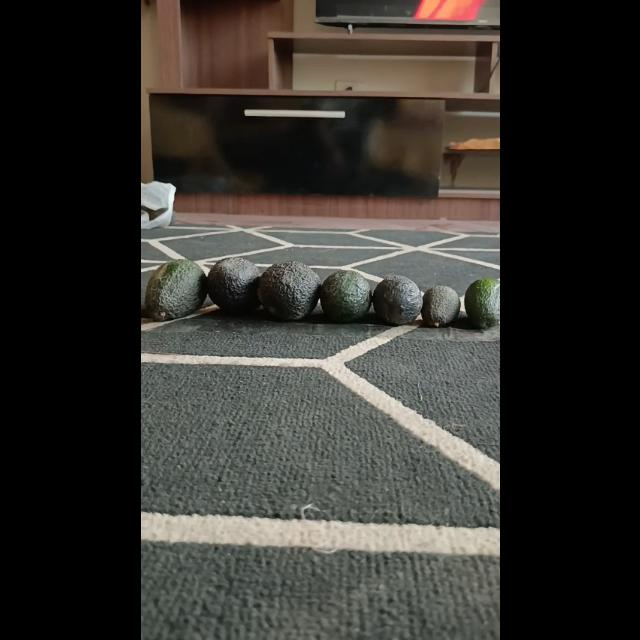Primera: (256, 260, 322, 320), (144, 258, 206, 320), (205, 256, 262, 314)
Segunda: (319, 269, 373, 323), (371, 274, 423, 326), (463, 277, 499, 329), (420, 284, 460, 328)
